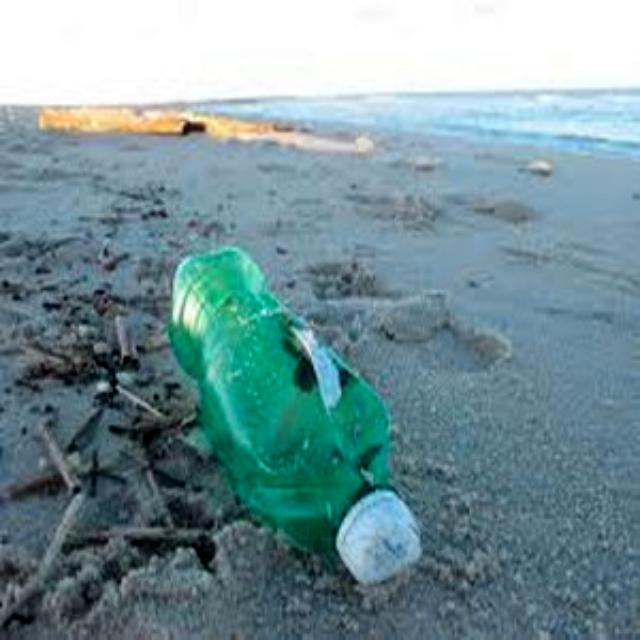Plastic: (172, 243, 426, 587)
